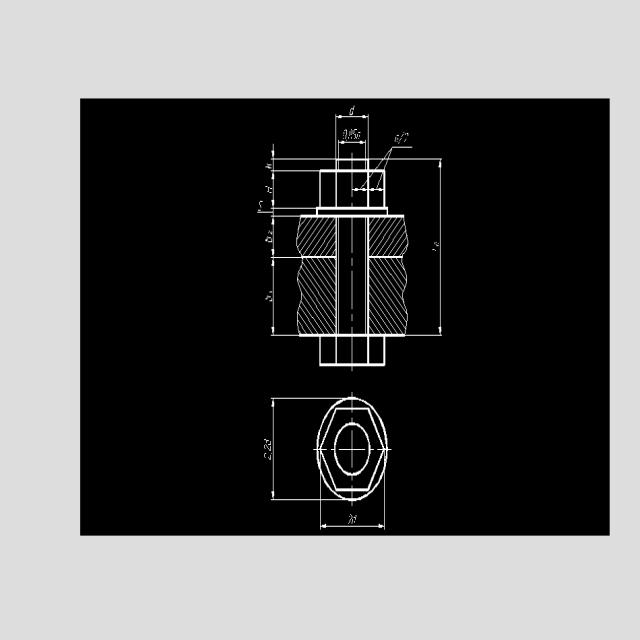marking_line: (408, 158, 443, 337), (270, 397, 316, 501), (269, 142, 316, 209), (389, 158, 443, 214), (271, 256, 296, 336), (269, 168, 316, 210), (318, 502, 386, 531), (335, 113, 370, 157), (270, 142, 336, 162), (269, 215, 296, 259), (338, 137, 366, 159), (384, 145, 412, 159), (353, 188, 367, 193), (370, 187, 383, 192)
